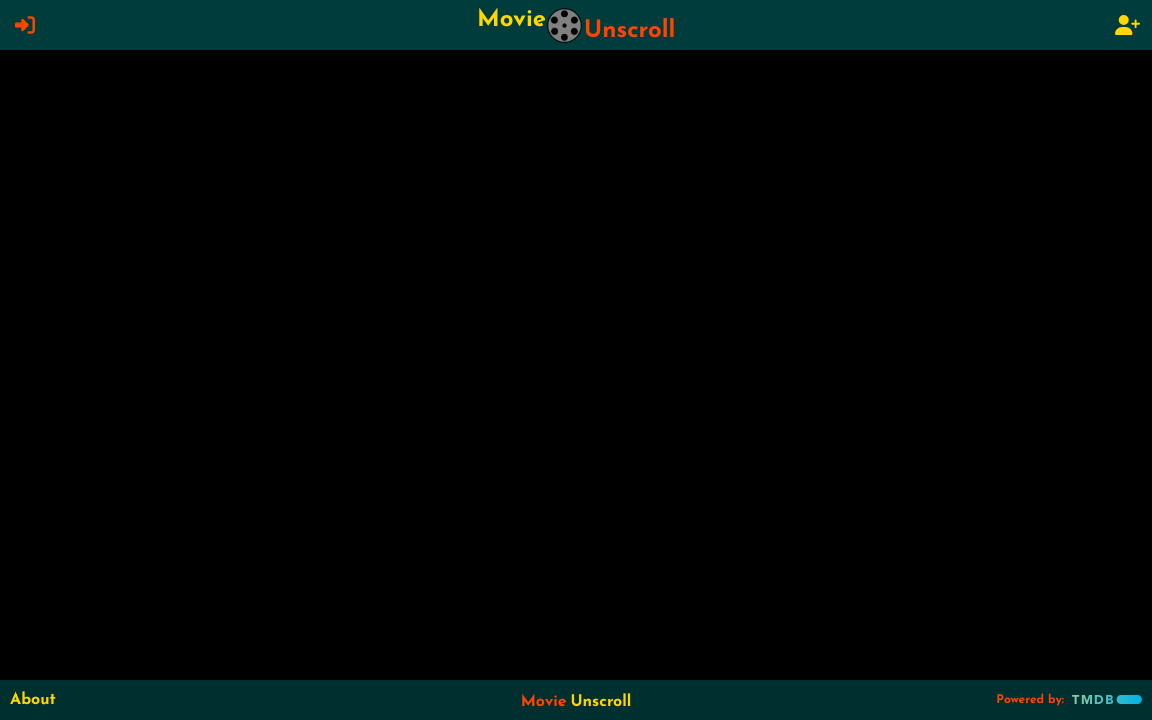
it: Testing register modal › shows modal after click
Click the element with test id "register": click(1127, 25) x1=1102 y1=15 x2=1151 y2=35
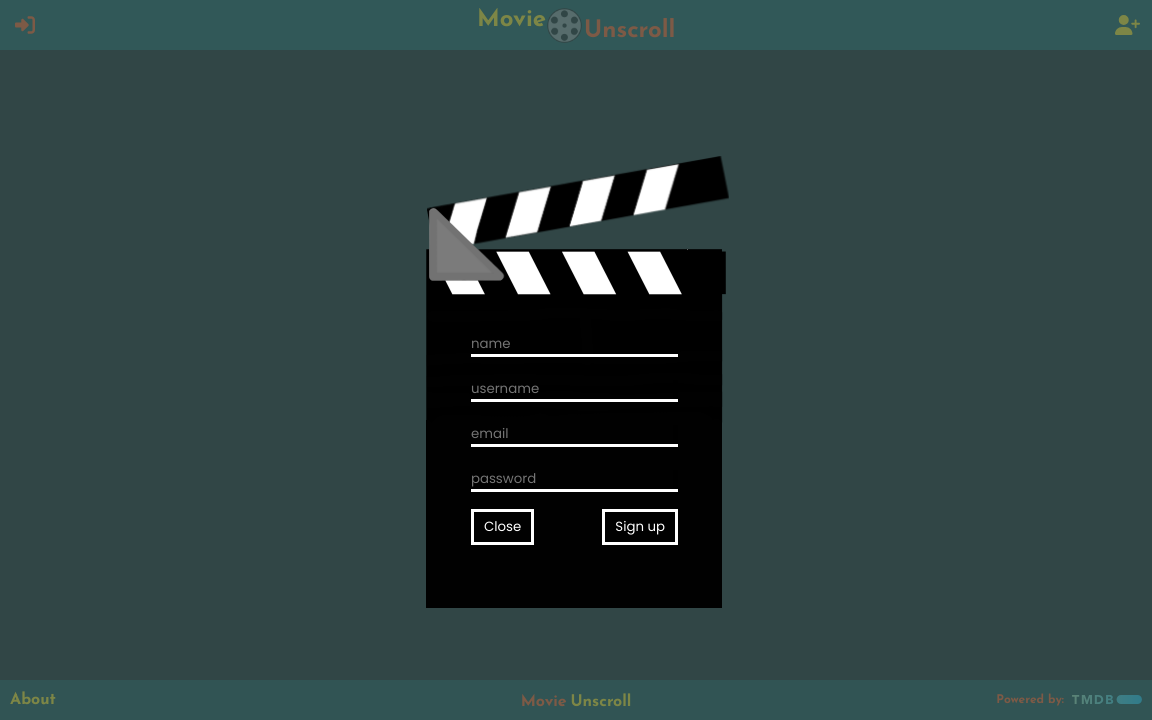
Expected: the form is shown, x1=471 y1=335 x2=678 y2=546
